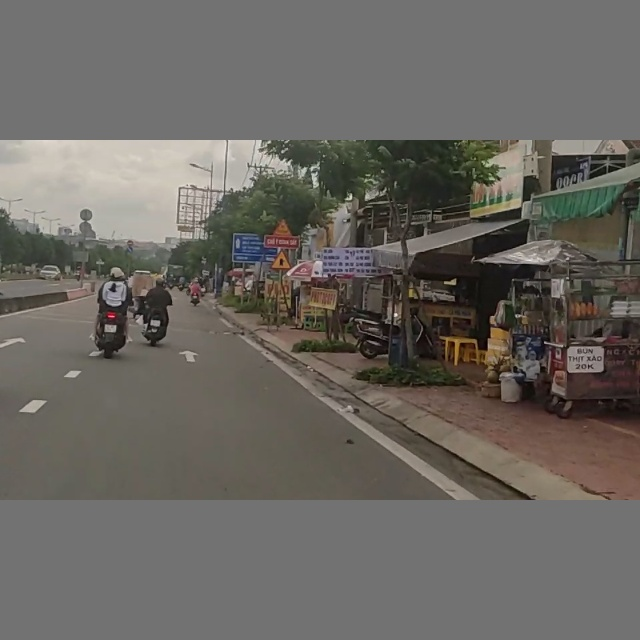W.207: (269, 248, 293, 270)
